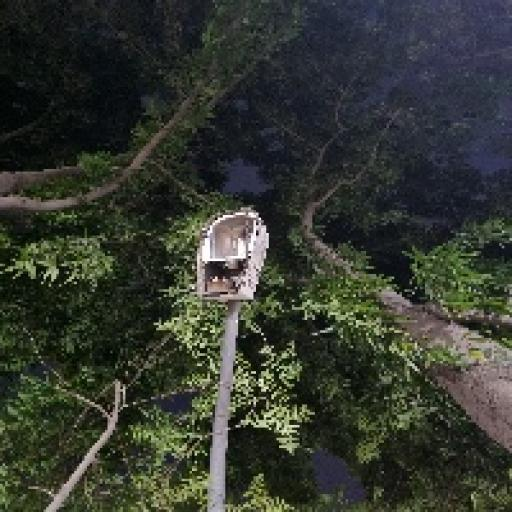Not Working: (174, 193, 292, 321)
